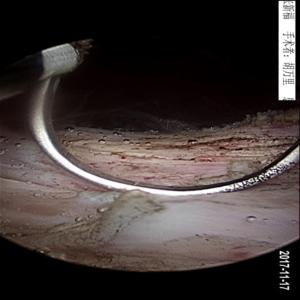film: (25, 105, 297, 175)
